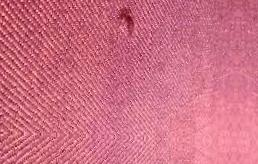knot: (117, 7, 141, 38)
